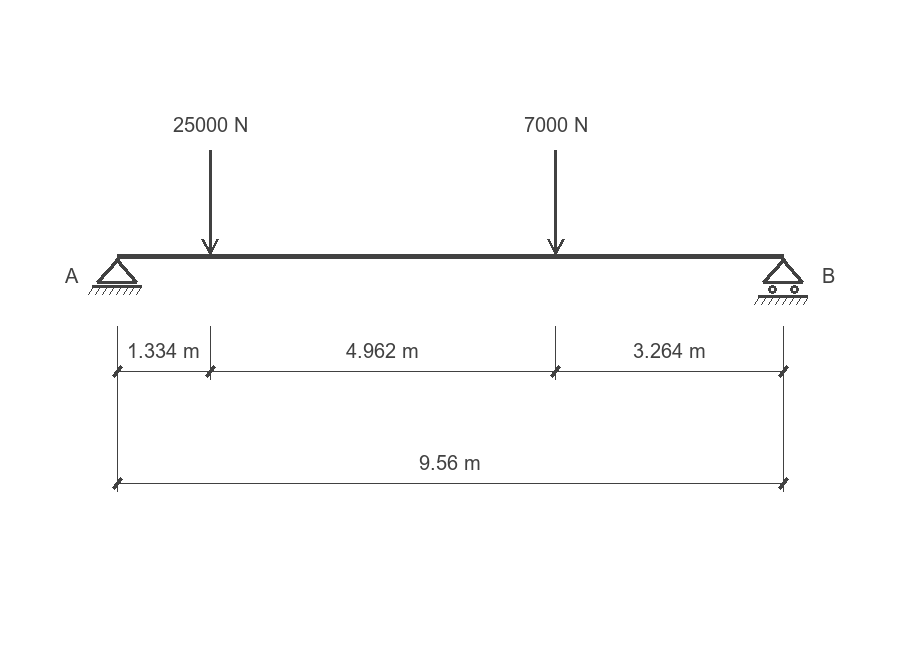pin_support: (88, 258, 142, 295)
point_load: (201, 150, 219, 254), (547, 150, 565, 254)
roller_support: (754, 258, 808, 305)
